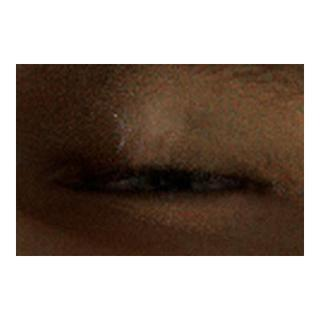pupil: (153, 164, 190, 201)
